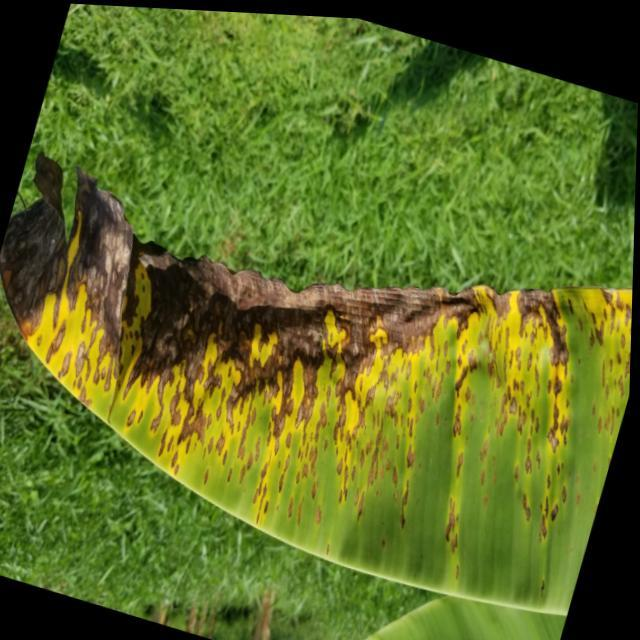Early_rust: (0, 129, 640, 588)
